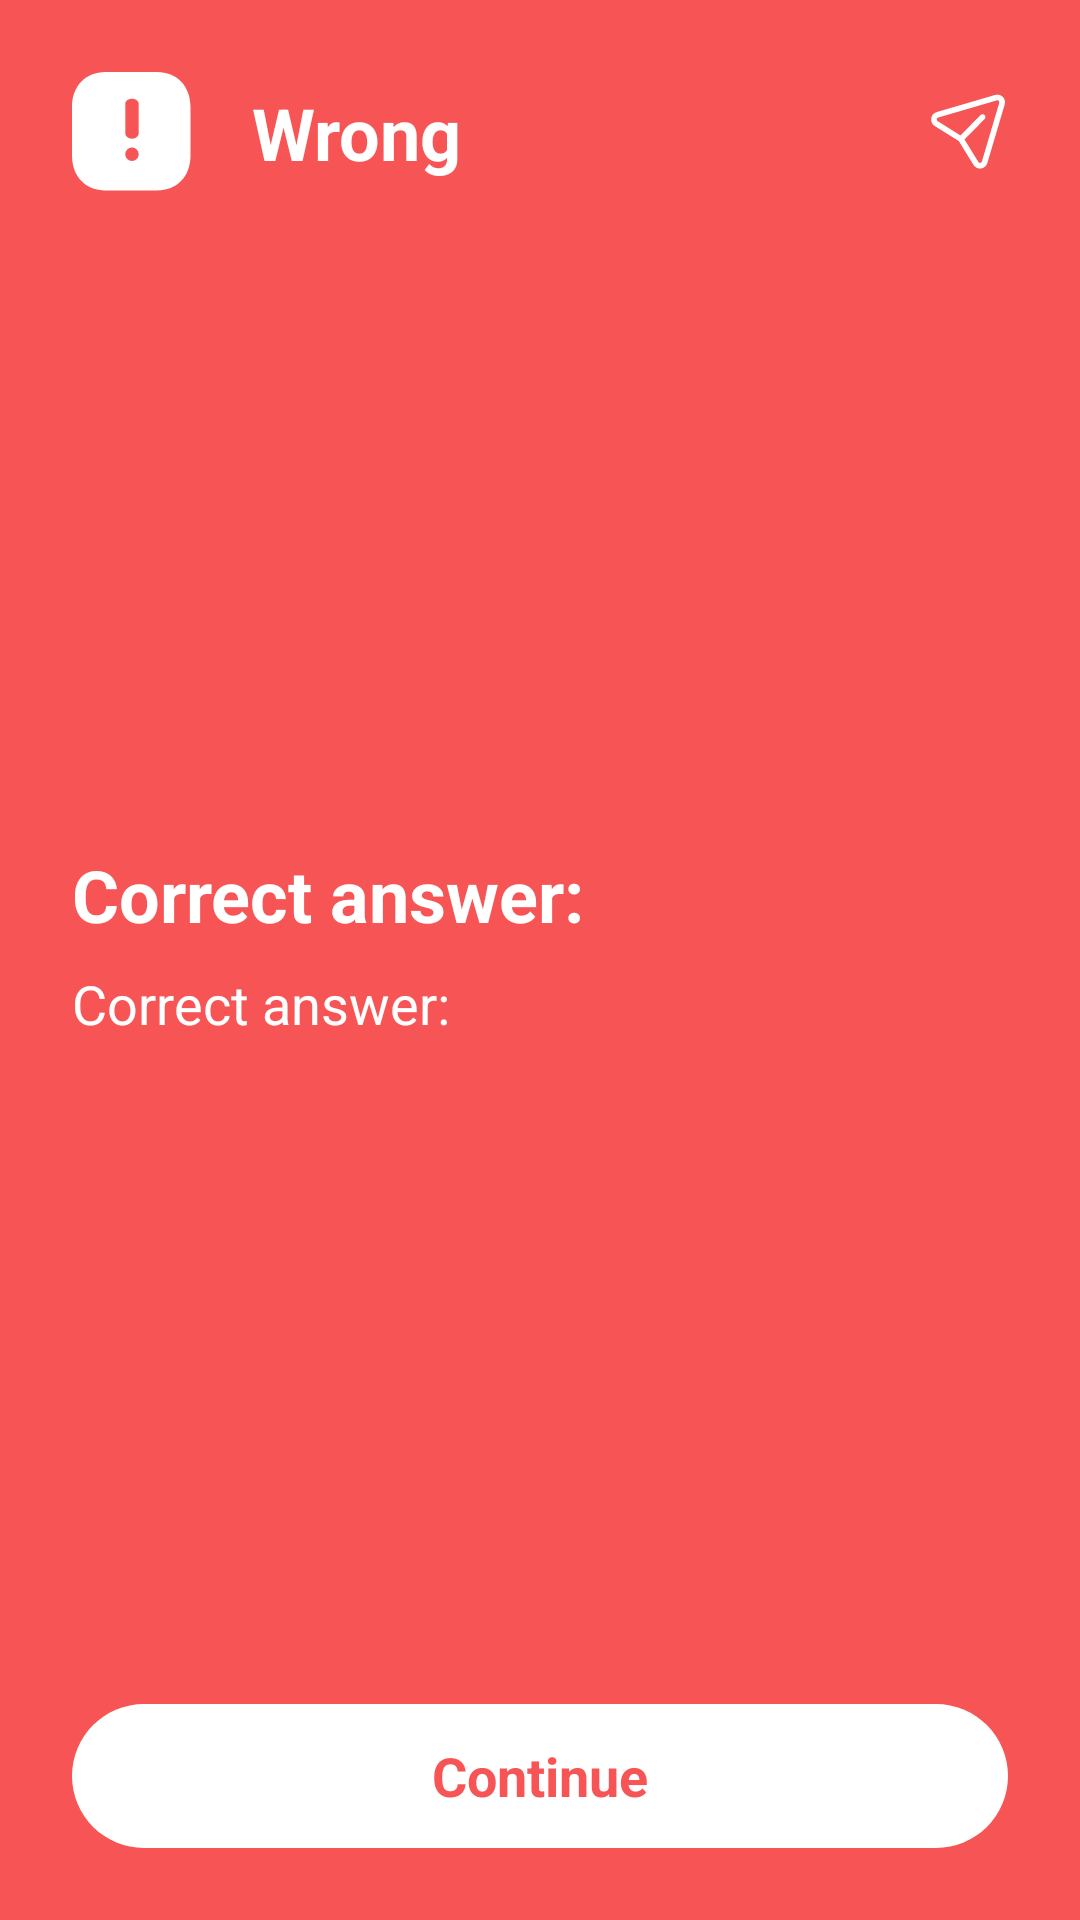

Named icons in this screenshot (1080 × 1920) and their centers, [x,y]:
share: [968,131]
